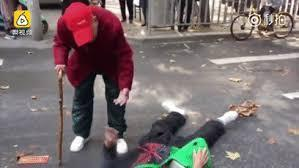Fall-Detected: (83, 91, 249, 166)
